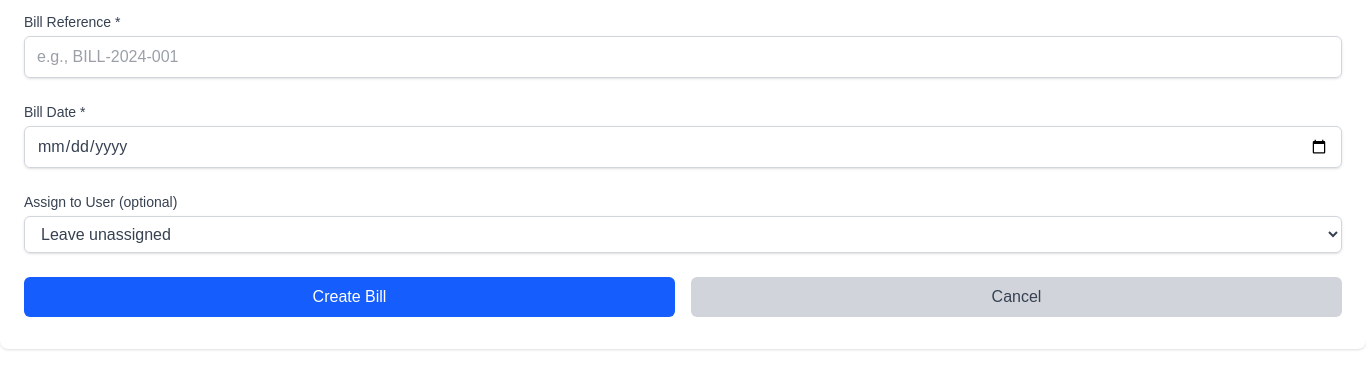
Test: BillForm › validates bill reference on change
In the field with test id "bill-reference-input": (683,57) [24,36,1342,78], type "BILL-TEST-001"
Wait 500 ms
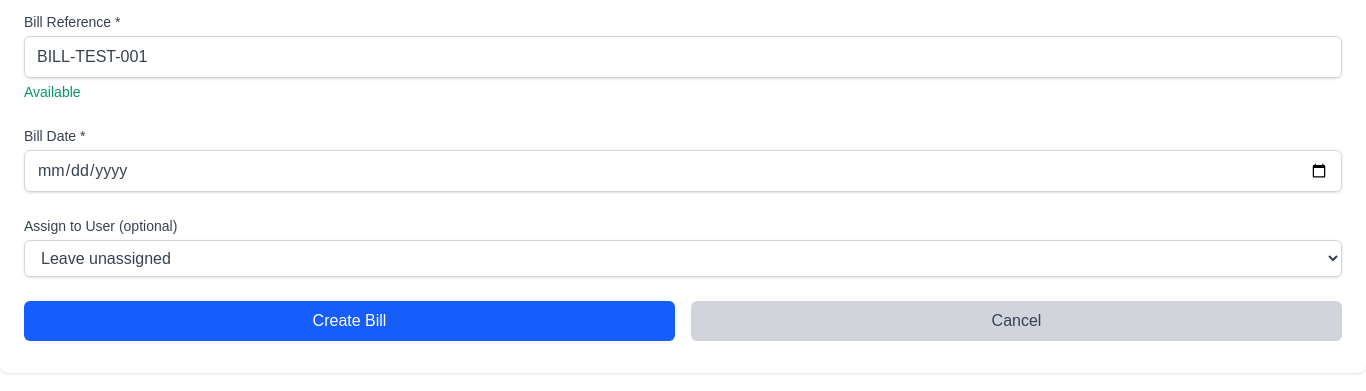
Expected: the text "Available" is shown, [24,84,81,100]
